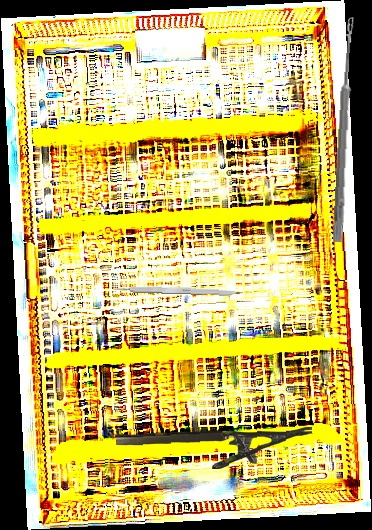Needle Holder: (115, 426, 314, 473)
Scalpel Handle: (111, 283, 242, 297)
Surgical Spoon: (332, 16, 356, 243)
